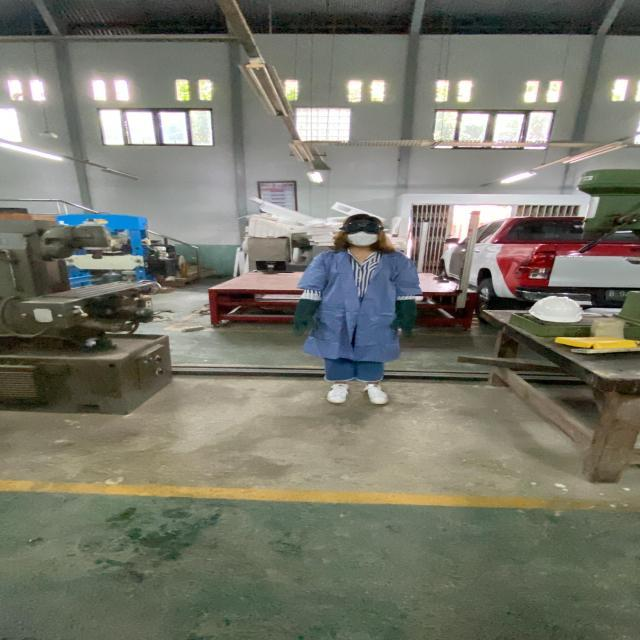glasses: (334, 216, 386, 235)
